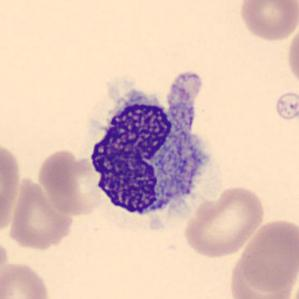Monocyte: (84, 78, 219, 228)
Platelets: (273, 90, 297, 124)
RBC: (182, 183, 266, 259), (36, 146, 110, 218), (6, 175, 76, 251), (232, 216, 298, 296), (237, 0, 298, 43), (0, 138, 22, 235), (0, 259, 53, 298), (285, 23, 299, 89), (0, 235, 10, 294)
